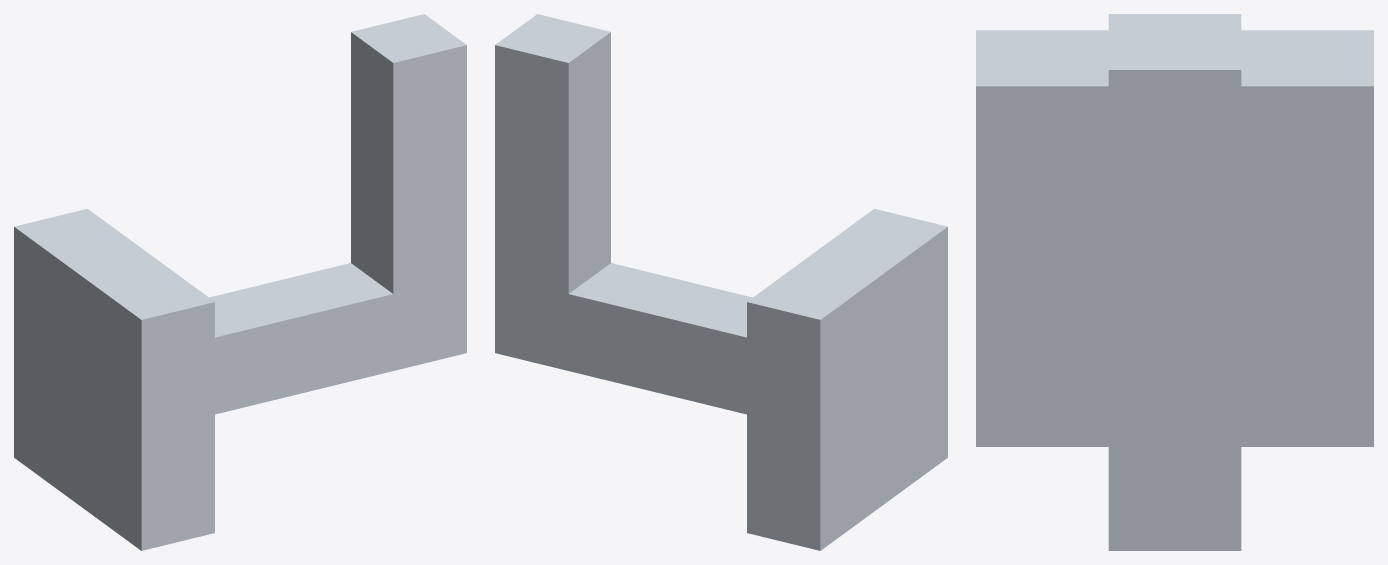
Rendered from Crochet_basic.glb.
3 renders of one model, left to right at view 1: azimuth 30°, elevation 25°; view 2: azimuth 150°, elevation 25°; view 3: azimuth 270°, elevation 25°, orthographic. The views are drawn at different scales.
Parts seen in each view (by area): view 1: generated(Clone); view 2: generated(Clone); view 3: generated(Clone).
Part boxes in pixels (<box>): generated(Clone): <box>14,14,466,550</box>; generated(Clone): <box>495,14,947,550</box>; generated(Clone): <box>976,14,1373,550</box>.
Size of the model in its own units: 5 by 5 by 3.
Materials: 1 (1 with a texture image).
